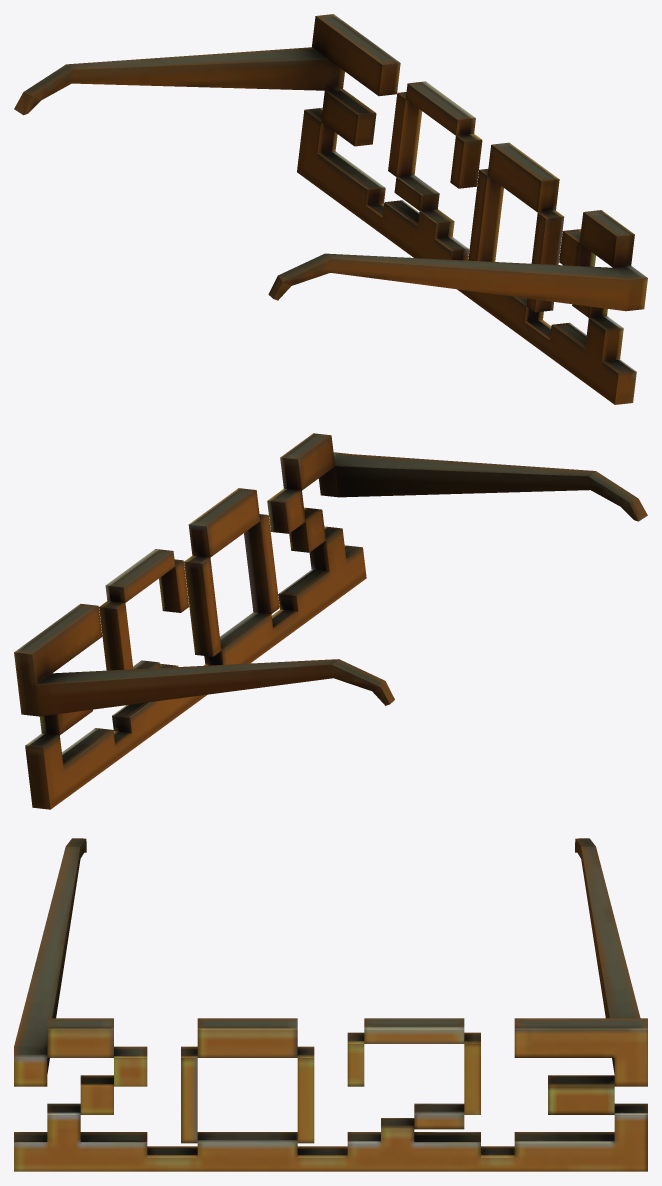
File: 2023 GLASSES.fbx
3 renders of one model, top to bottom at view 1: azimuth 30°, elevation 25°; view 2: azimuth 150°, elevation 25°; view 3: azimuth 270°, elevation 25°, orthographic.
Parts seen in each view (by area): view 1: _2023_GLASSES; view 2: _2023_GLASSES; view 3: _2023_GLASSES.
Boxes of the visible parts, x1,y1,x2,y2 form: _2023_GLASSES: [14, 14, 647, 404]; _2023_GLASSES: [14, 433, 647, 809]; _2023_GLASSES: [14, 838, 647, 1171].
Bounding box in the file's own units: 19.26 × 10.12 × 30.38.
